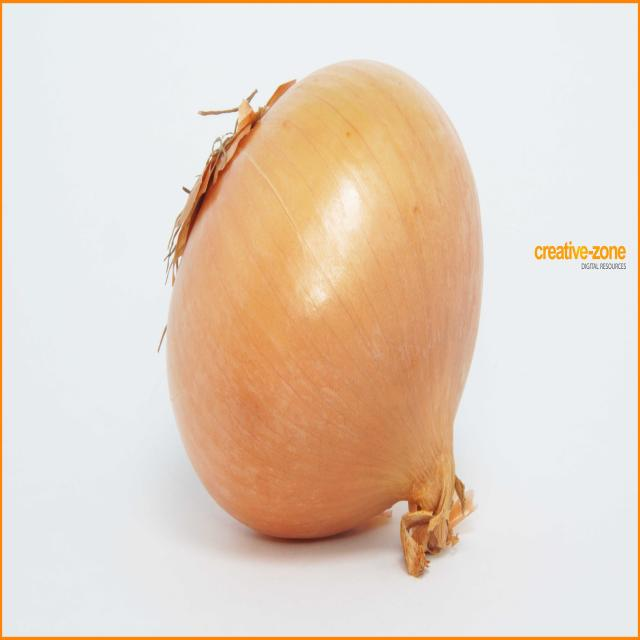onion: (158, 56, 486, 579)
